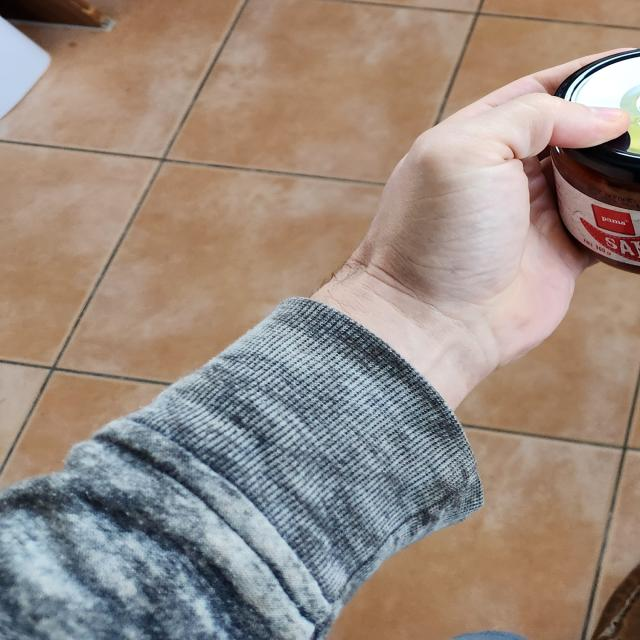salsa: (554, 44, 640, 279)
